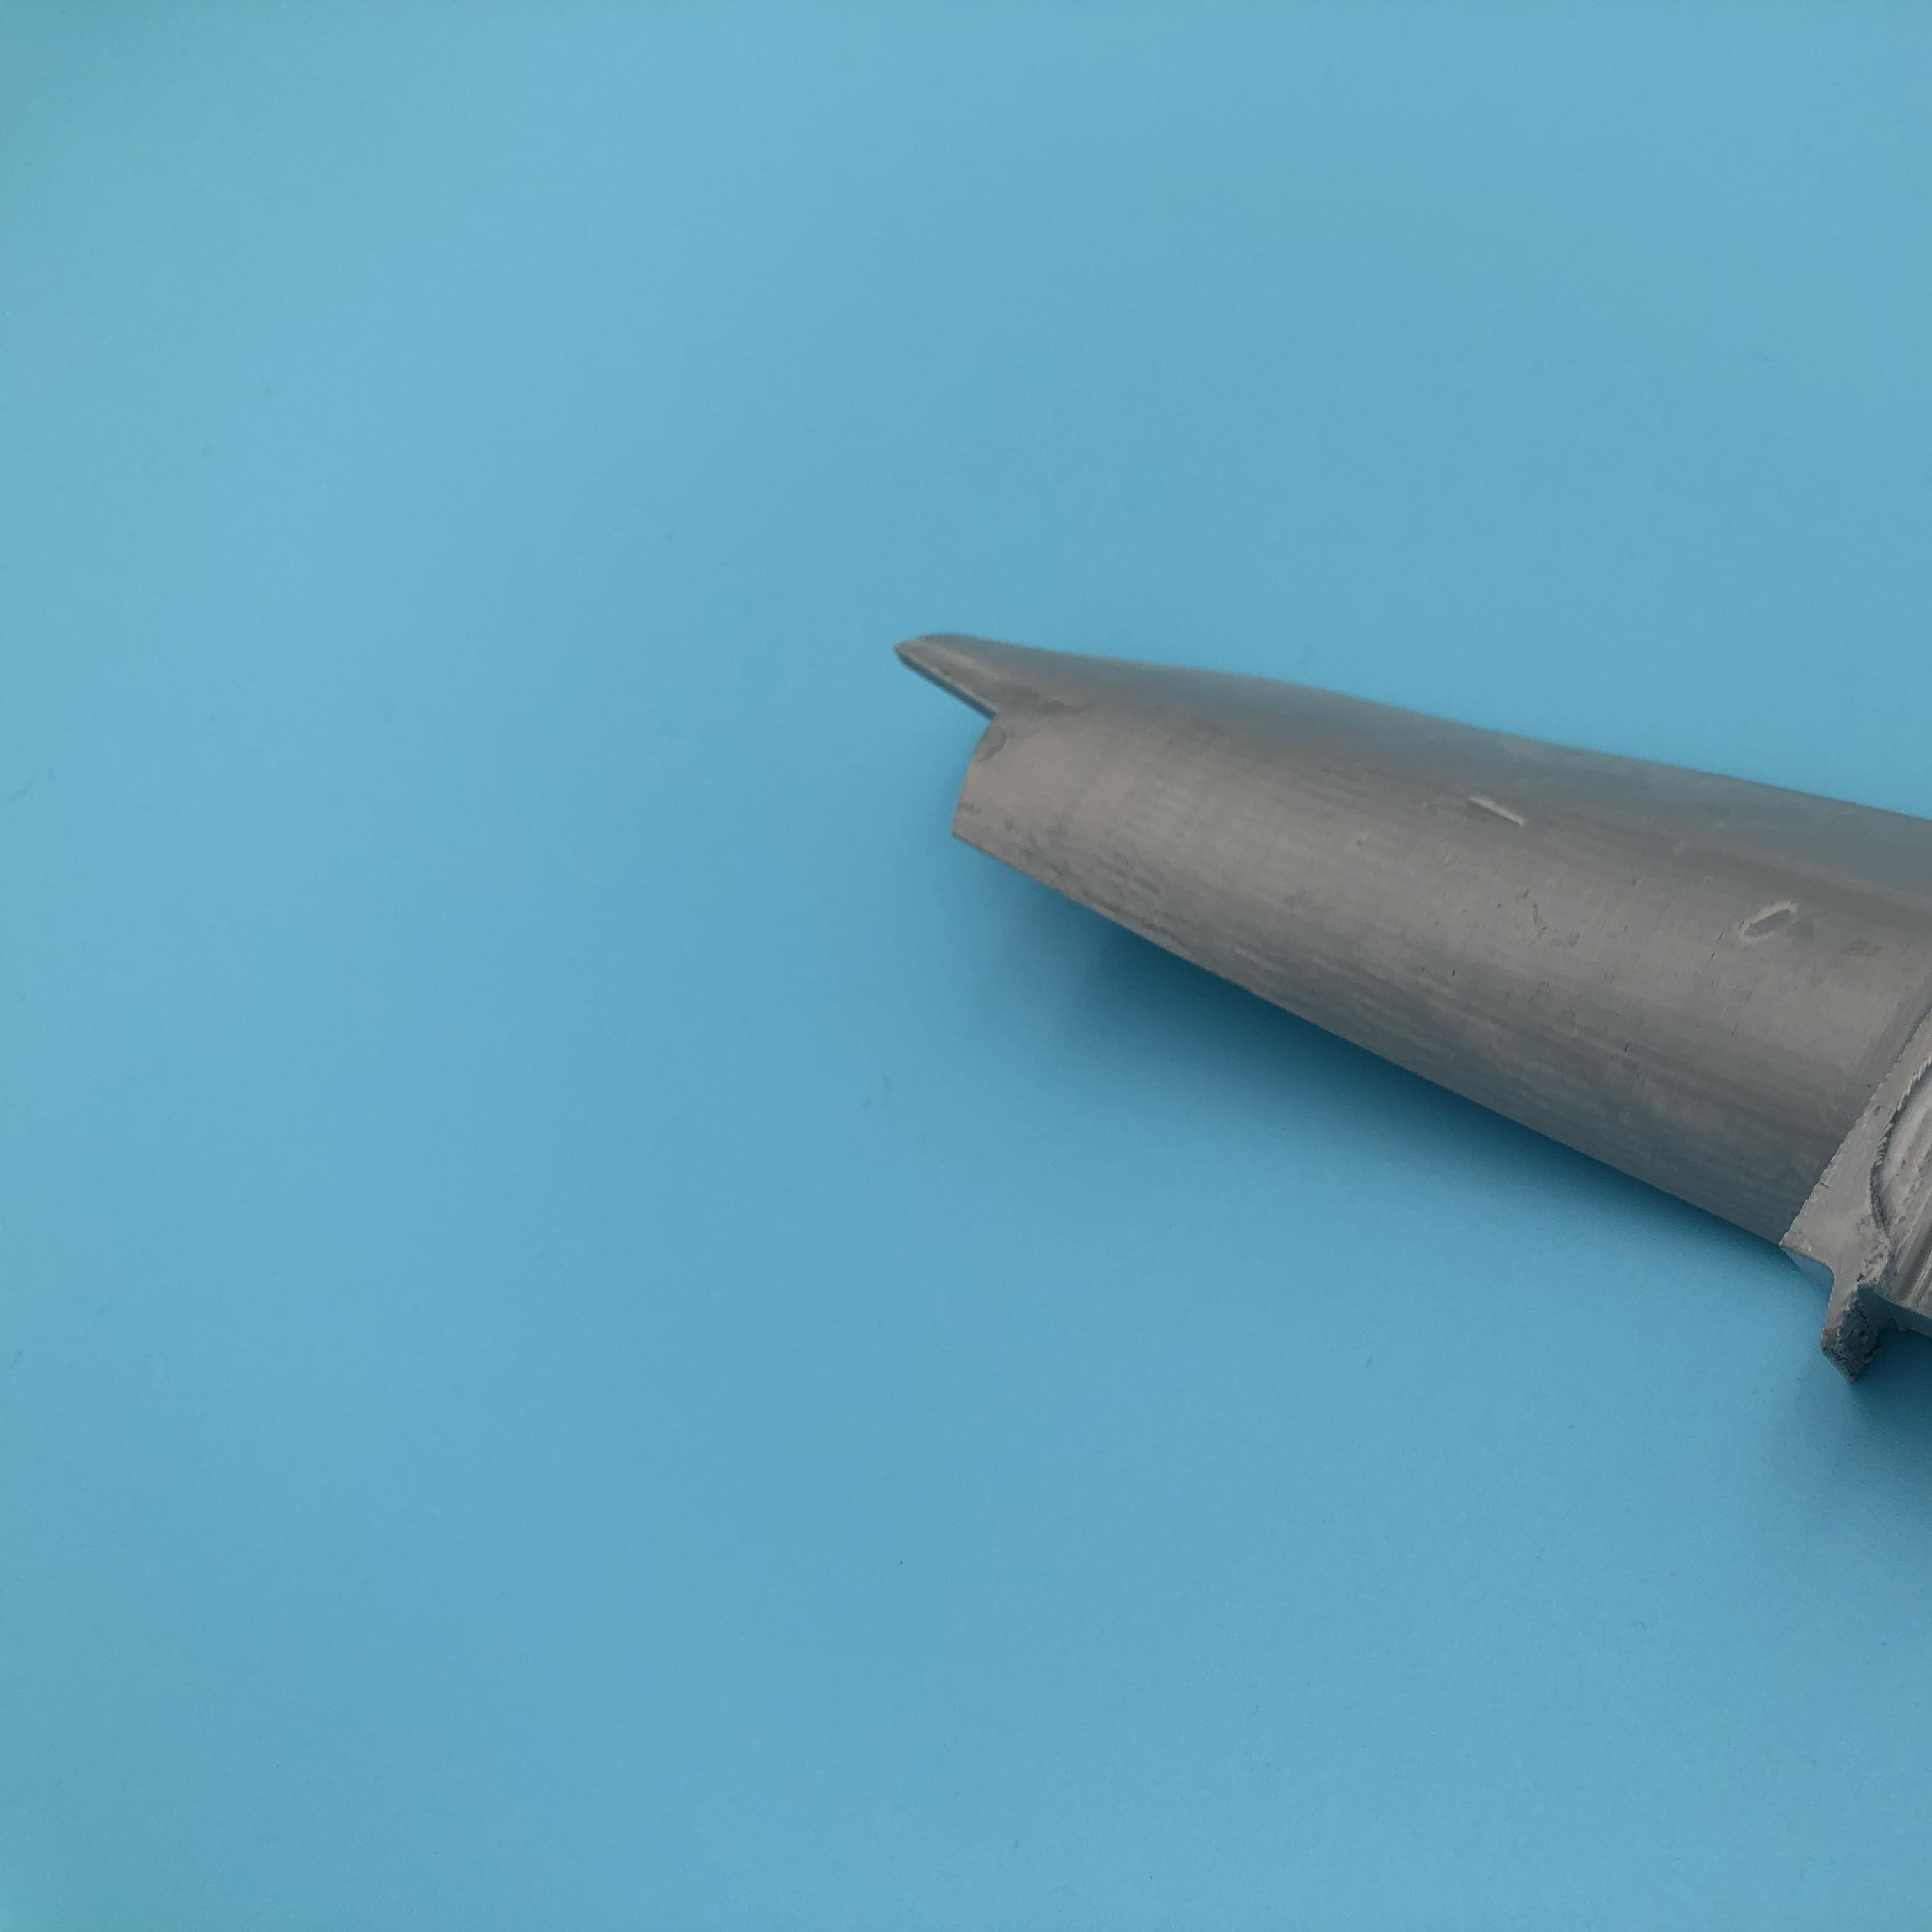fracture: (888, 637, 1014, 856)
